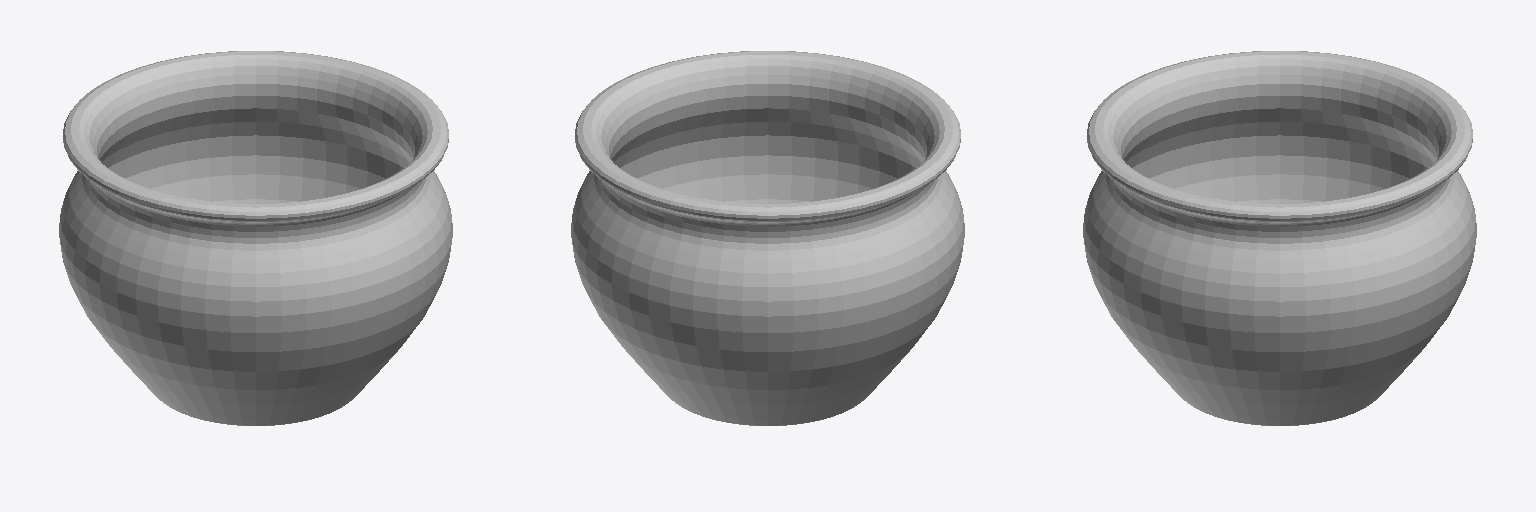
The model's file is plant3.obj.
The picture shows the model from 3 angles: view 1: azimuth 30°, elevation 25°; view 2: azimuth 150°, elevation 25°; view 3: azimuth 270°, elevation 25°; orthographic projection.
Visible parts, largest first — view 1: potted_plant_02_pot; view 2: potted_plant_02_pot; view 3: potted_plant_02_pot.
Boxes of the visible parts, box(x1,y1,x2,y2) form: potted_plant_02_pot: box(59, 51, 452, 425); potted_plant_02_pot: box(571, 51, 964, 425); potted_plant_02_pot: box(1083, 51, 1476, 425).
Bounding box in the file's own units: 0.4741 × 0.3361 × 0.4741.